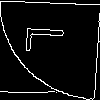L: (25, 24, 75, 55)
